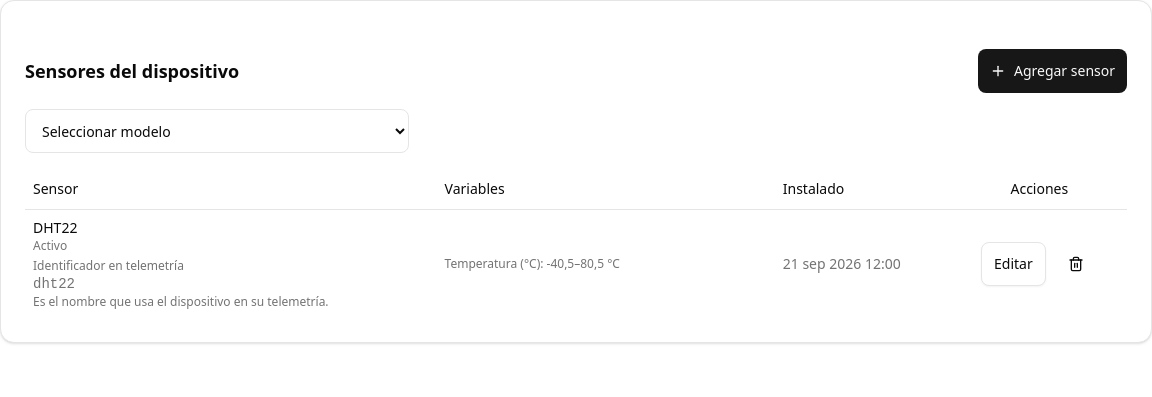
it: DeviceSensorsSection with a device type › shows the server's reason when adding is refused
The image size is (1152, 397).
Select "DHT22" in the dropdown named "Modelo de sensor" at (217, 131), box x1=25 y1=109 x2=409 y2=153
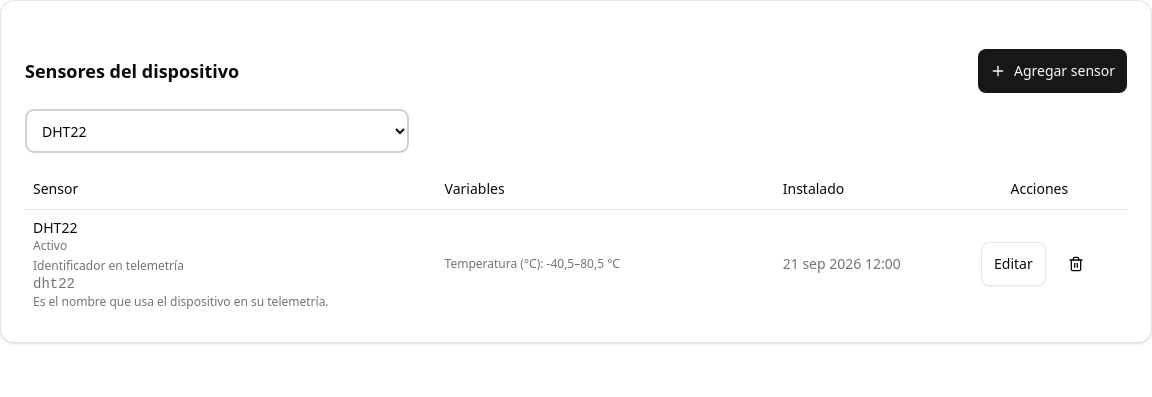
Click the button "Agregar sensor" at (1052, 71), box x1=978 y1=49 x2=1127 y2=93
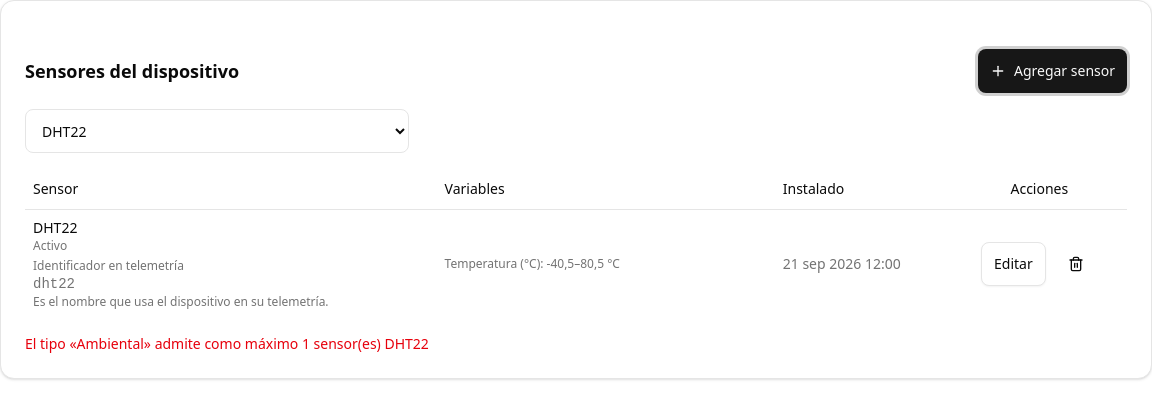
Result: the message shows "admite como máximo 1 sensor(es) DHT22" at x1=25 y1=334 x2=429 y2=352
